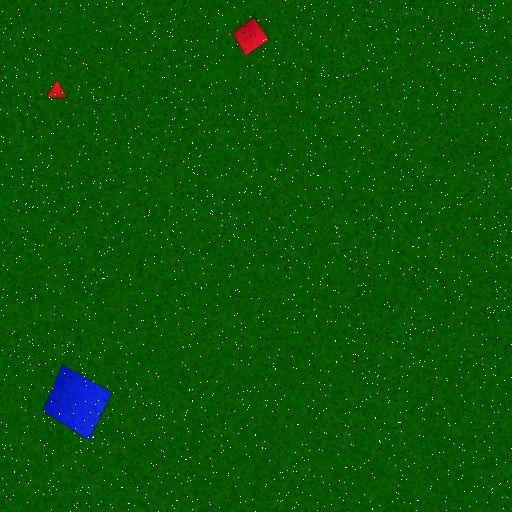BLUE_SQUARE: (42, 364, 113, 442)
RED_SQUARE: (232, 17, 270, 56)
